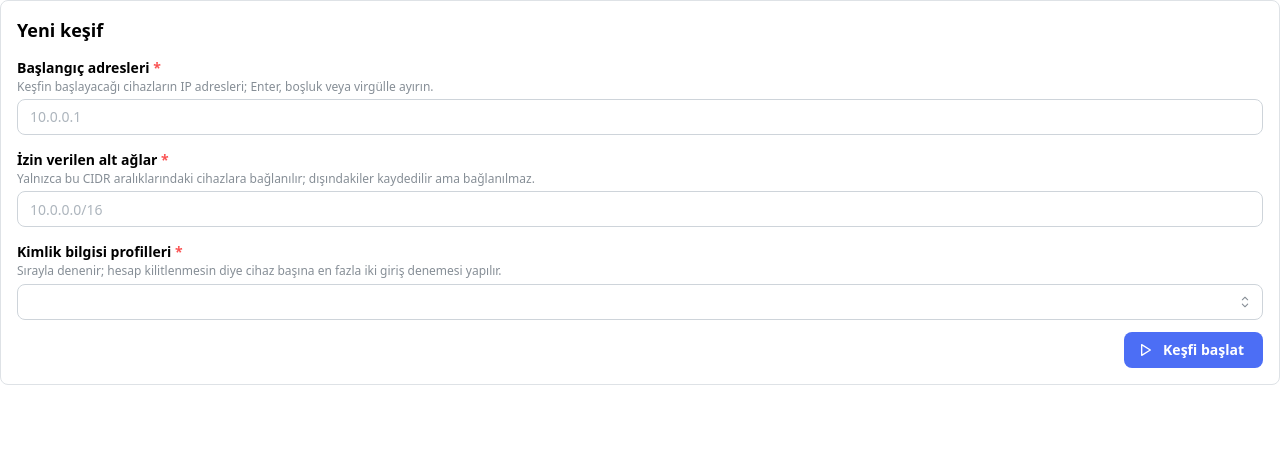
discovery form › rejects an invalid address and an invalid network
In the dropdown labelled "Başlangıç adresleri *": (640, 117) left=30, top=106, right=1250, bottom=128, type "10.0.0.300,"
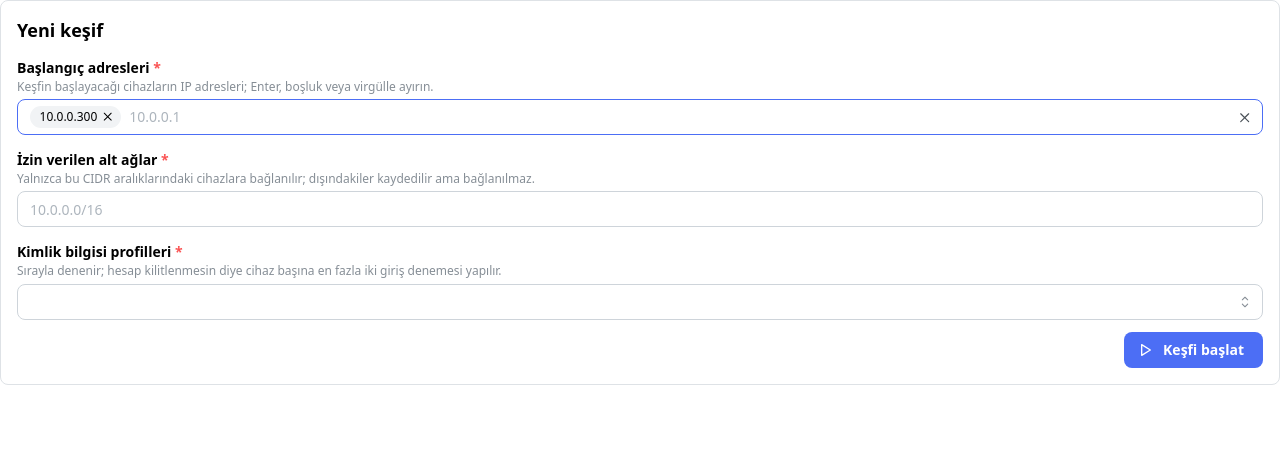
In the dropdown labelled "İzin verilen alt ağlar *": (640, 209) left=30, top=198, right=1250, bottom=220, type "10.0.0.0,"
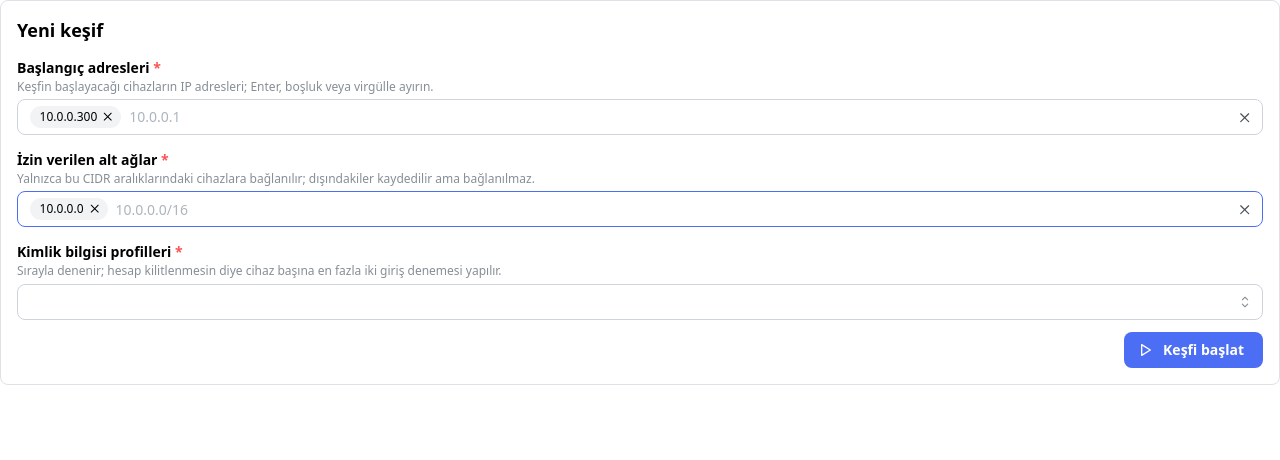
Click the button "Keşfi başlat": (1194, 350) left=1124, top=332, right=1263, bottom=368
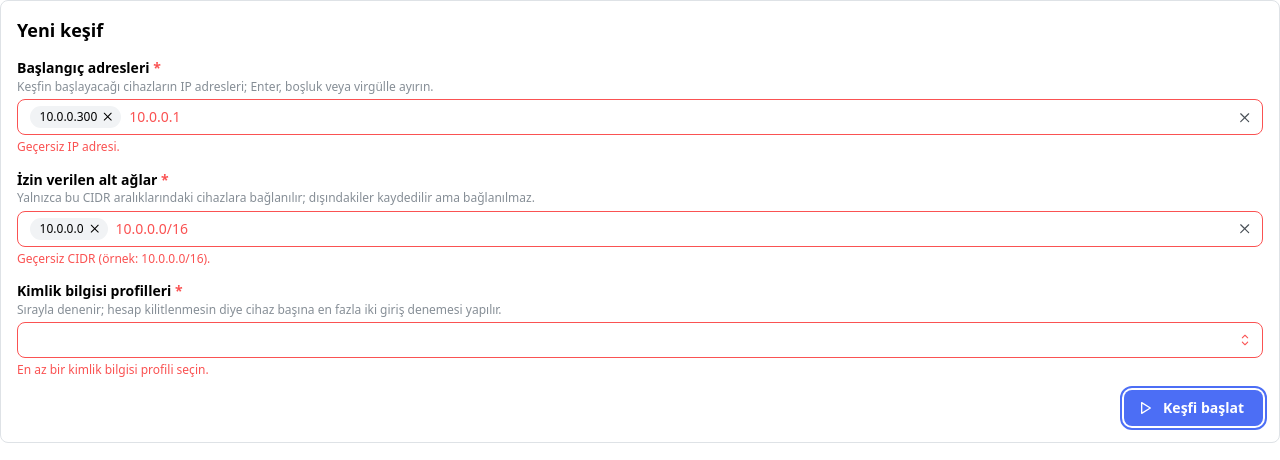
Expected: the text "Geçersiz IP adresi." is shown, left=17, top=138, right=120, bottom=155
Expected: the text "Geçersiz CIDR (örnek: 10.0.0.0/16)." is shown, left=17, top=250, right=210, bottom=267
